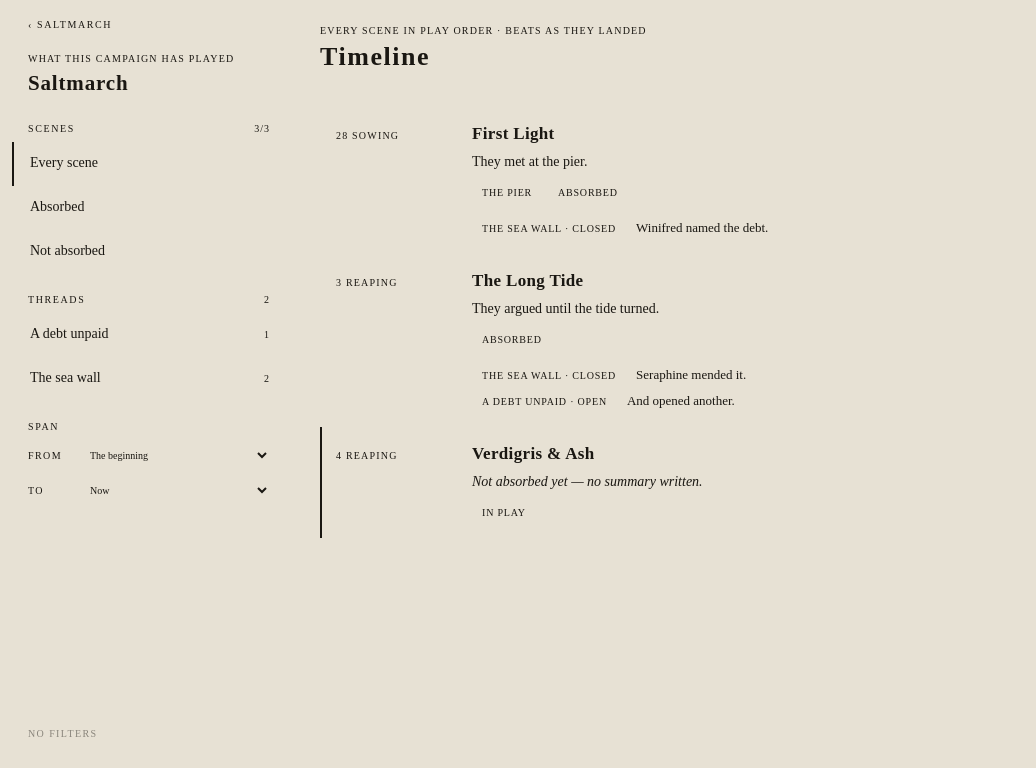
it: the pinned control clears every filter at once, and is dead until there is one
The width and height of the screenshot is (1036, 768).
Expected: the button "No filters" is disabled, [12, 712, 286, 756]
Click the button "Absorbed". click: (57, 207)
box: [12, 186, 286, 230]
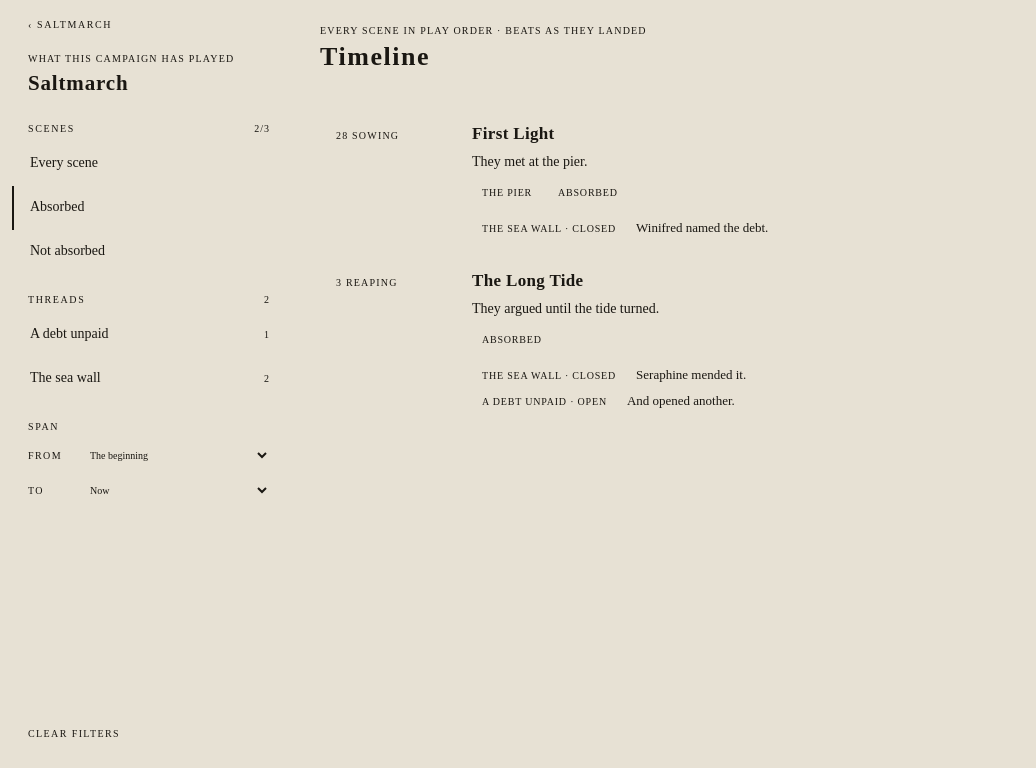
Click the button "The sea wall 2". click: (65, 378)
box: [12, 357, 286, 401]
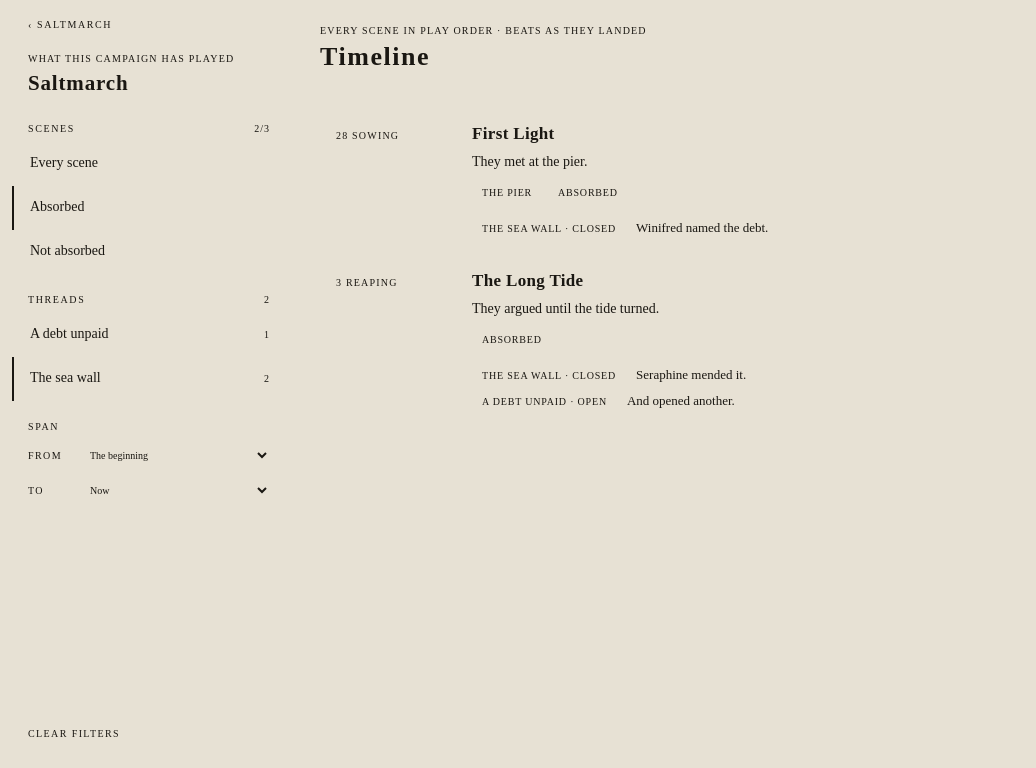
Click the button "Clear filters". click: (74, 734)
box: [12, 712, 286, 756]
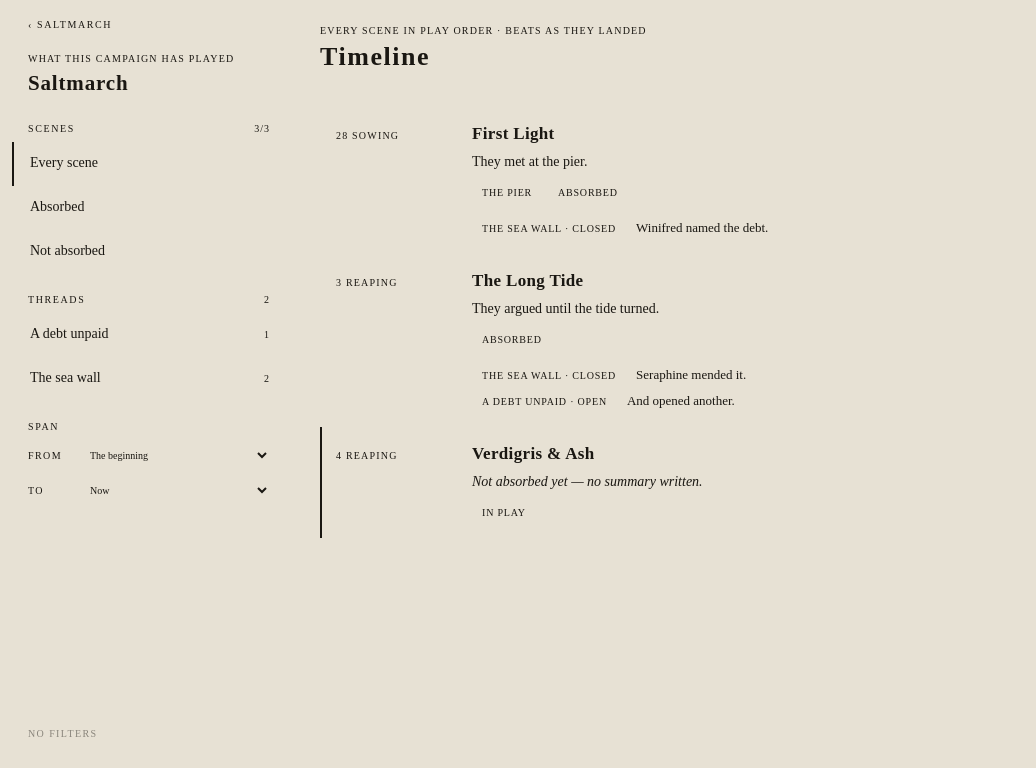
Expected: the button "No filters" is disabled, [12, 712, 286, 756]
